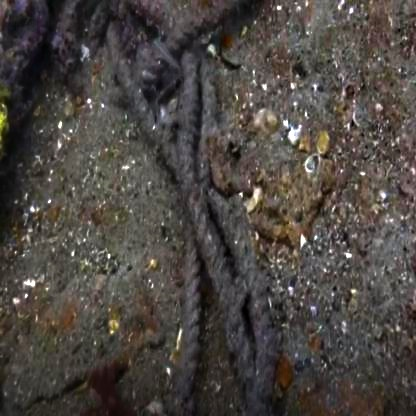net: (129, 21, 280, 401)
